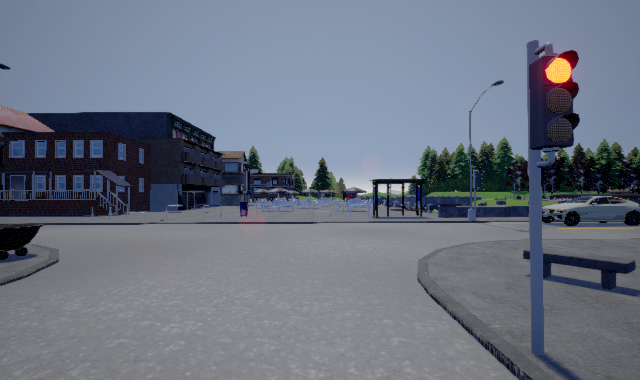traffic_light: (529, 49, 580, 149)
vehicle: (542, 196, 640, 226)
